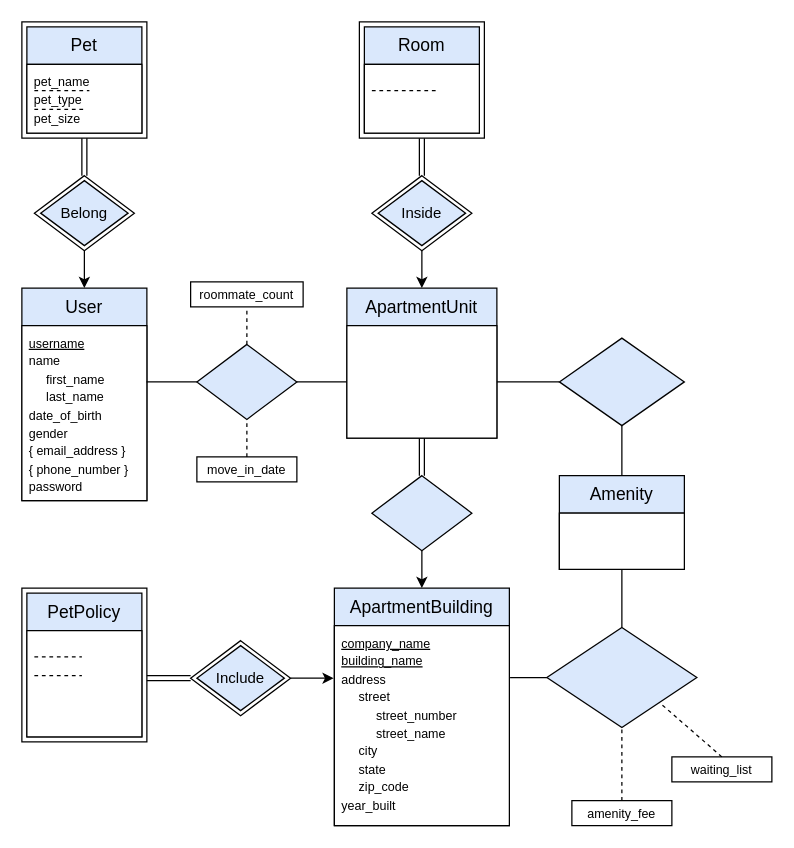
This 794x848 diagram has some shape labels left out. Here are the shapes that lost their labels. From the top down, the centre of each, then its label:
(421,98): room_name room_size description
(246,381): Interest
(421,381): unit_rental_id unit_number monthly_rent unit_size available_date
(621,381): UnitAmenity
(421,512): Locate
(621,540): amenity_name description
(84,683): pet_type pet_size is_allowed registration_fee monthly_fee
(621,677): BuildingAmenity
